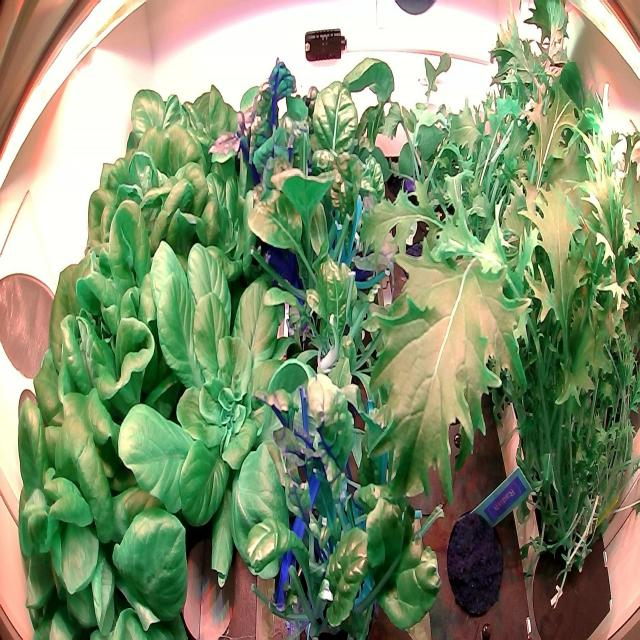Ready: (11, 373, 198, 640), (34, 192, 200, 423), (86, 76, 239, 297)
pod: (444, 504, 512, 621)
young: (114, 235, 339, 598)
